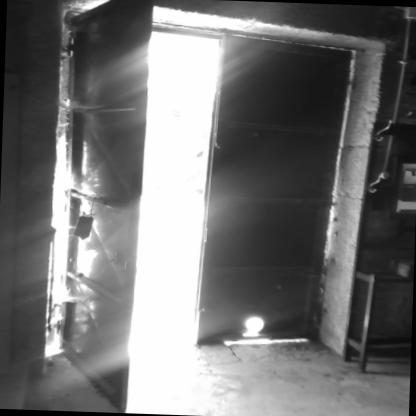semi: (40, 3, 391, 416)
